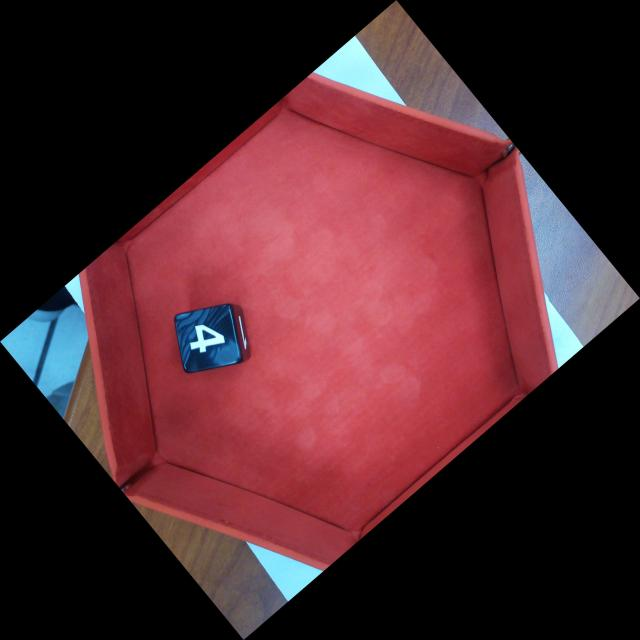dice: (171, 302, 244, 375)
